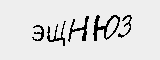З: (117, 12, 134, 41)
Н: (67, 15, 88, 42)
Щ: (44, 20, 67, 46)
Э: (28, 19, 44, 46)
Ю: (92, 11, 120, 43)
